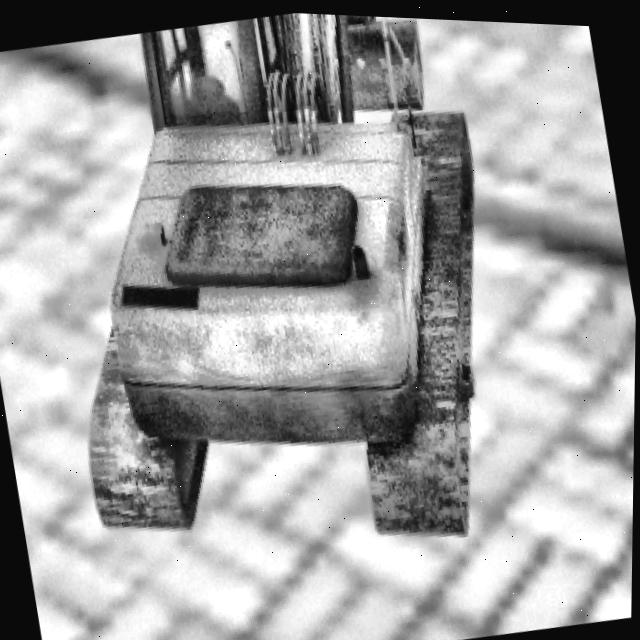excavator: (13, 1, 537, 597)
